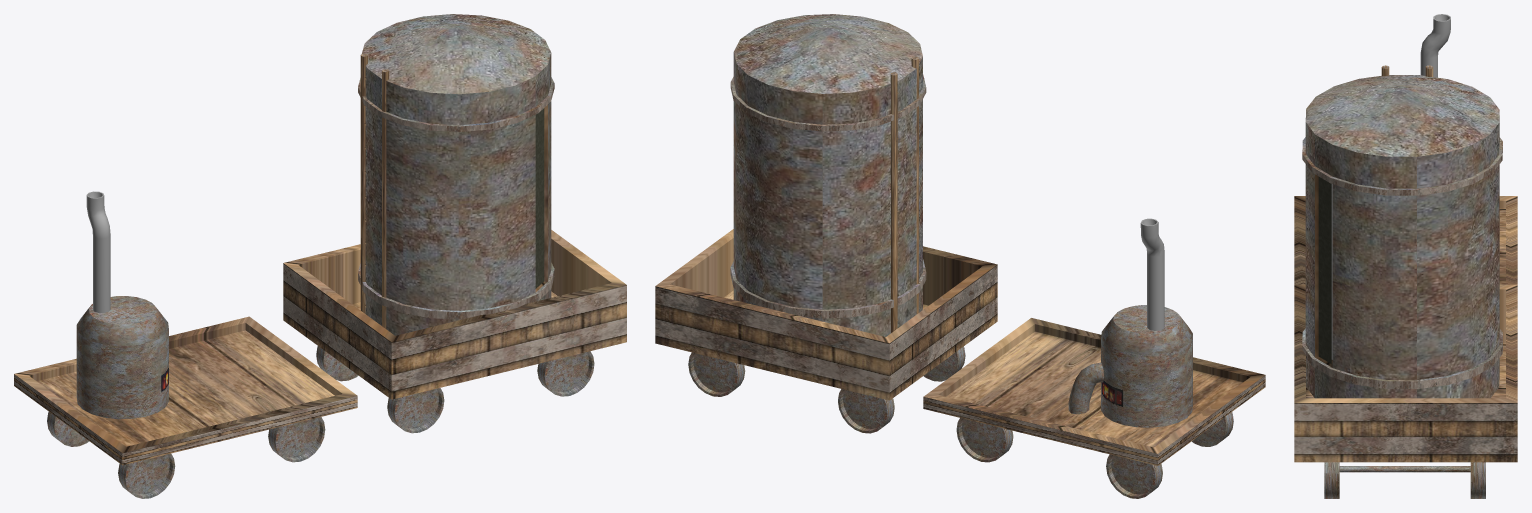
The model's file is left_big_cistern.fbx.
3 renders of one model, left to right at view 1: azimuth 30°, elevation 25°; view 2: azimuth 150°, elevation 25°; view 3: azimuth 270°, elevation 25°, orthographic. The views are drawn at different scales.
Parts seen in each view (by area): view 1: cistern, pCube1, pCube2, pCylinder13, ledder1, pCylinder14, pCylinder2, pCylinder8, pCylinder1, pCylinder7, pCylinder10, pCylinder4; view 2: cistern, pCube1, pCube2, pCylinder13, ledder1, pCylinder14, pCylinder4, pCylinder10, pCylinder3, pCylinder9, sweep1, pCylinder8 (+1 smaller); view 3: cistern, pCube1, pCube2, pCylinder14, pCylinder6, inside_2, inside_3, inside_4, pCylinder1, pCylinder3, inside_1.
Boxes of the visible parts, x1,y1,x2,y2 form: cistern: (358, 14, 554, 335); pCube1: (283, 230, 626, 399); pCube2: (14, 316, 357, 465); pCylinder13: (76, 296, 168, 419); ledder1: (360, 53, 389, 328); pCylinder14: (86, 191, 110, 312); pCylinder2: (387, 388, 444, 433); pCylinder8: (118, 453, 175, 498); pCylinder1: (537, 351, 594, 396); pCylinder7: (268, 417, 325, 462); pCylinder10: (47, 412, 89, 446); pCylinder4: (316, 346, 358, 381); cistern: (730, 14, 926, 336); pCube1: (655, 229, 997, 400); pCube2: (923, 318, 1265, 465); pCylinder13: (1101, 305, 1192, 427); ledder1: (890, 56, 918, 332); pCylinder14: (1140, 218, 1164, 330); pCylinder4: (838, 389, 894, 433); pCylinder10: (1106, 454, 1162, 498); pCylinder3: (688, 352, 745, 396); pCylinder9: (956, 418, 1013, 462); sweep1: (1068, 362, 1104, 414); pCylinder8: (1192, 412, 1233, 446); cistern: (1302, 75, 1502, 398); pCube1: (1294, 284, 1517, 462); pCube2: (1294, 196, 1517, 284); pCylinder14: (1420, 14, 1450, 77); pCylinder6: (1339, 466, 1470, 472); inside_2: (1318, 264, 1331, 322); inside_3: (1318, 219, 1331, 271); inside_4: (1318, 177, 1331, 226); pCylinder1: (1324, 462, 1339, 498); pCylinder3: (1470, 462, 1485, 498); inside_1: (1318, 316, 1331, 363).
Size of the model in its own units: 6.13 by 4.14 by 2.28.
